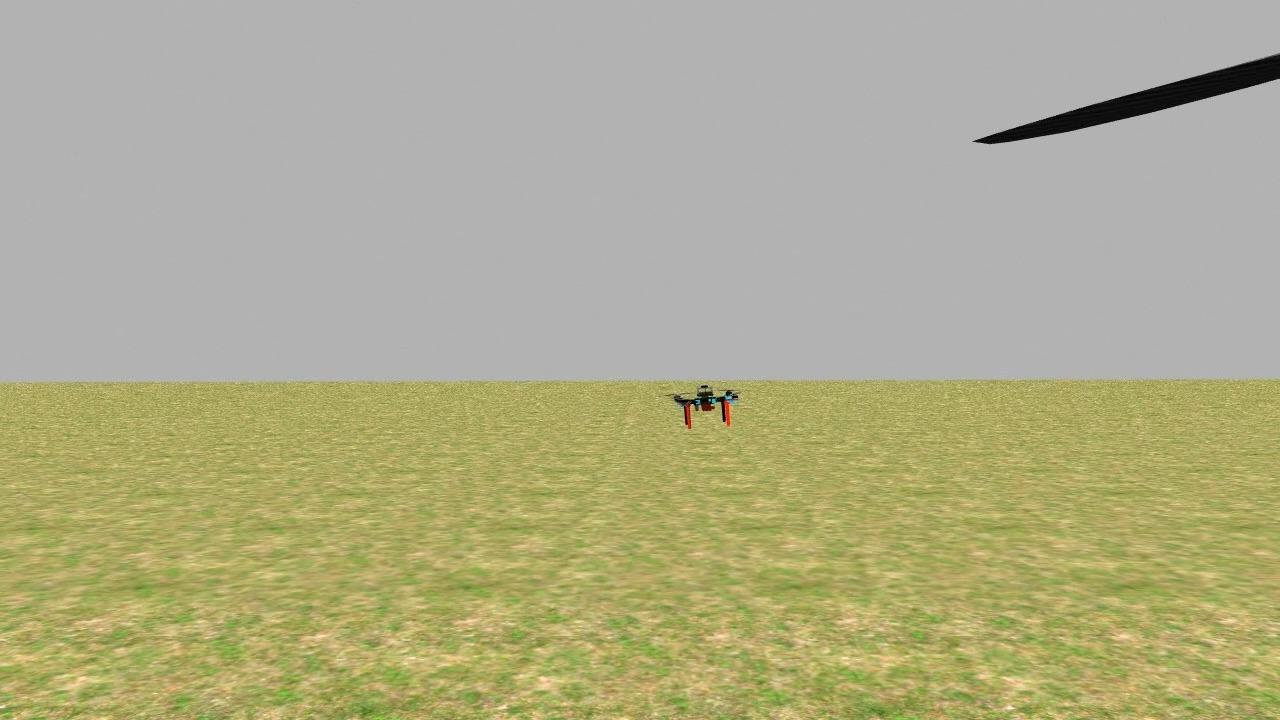UAV: (650, 364, 766, 440)
